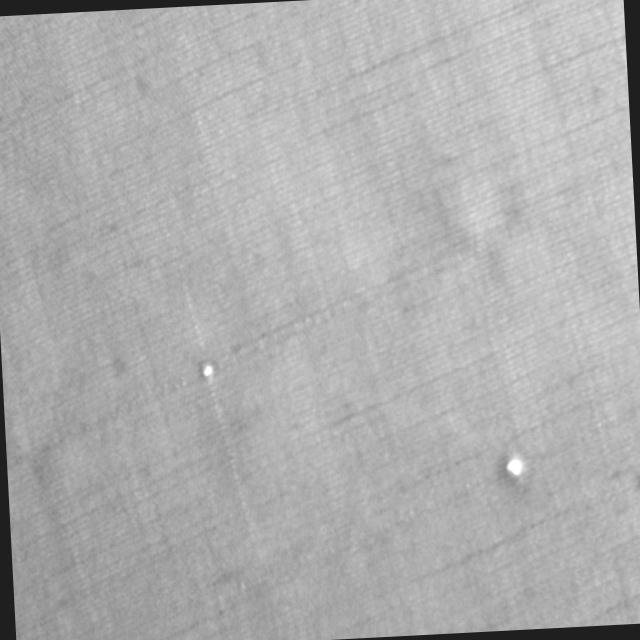hole: (497, 443, 536, 497), (198, 354, 222, 386)
